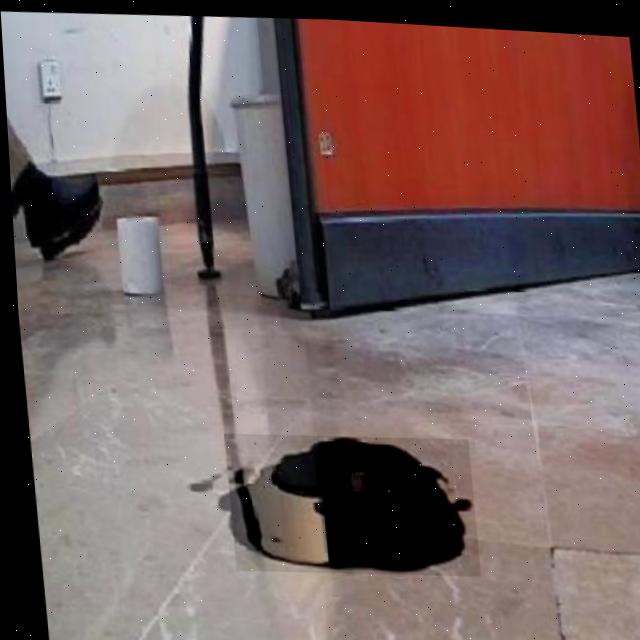spillage: (225, 433, 472, 569)
